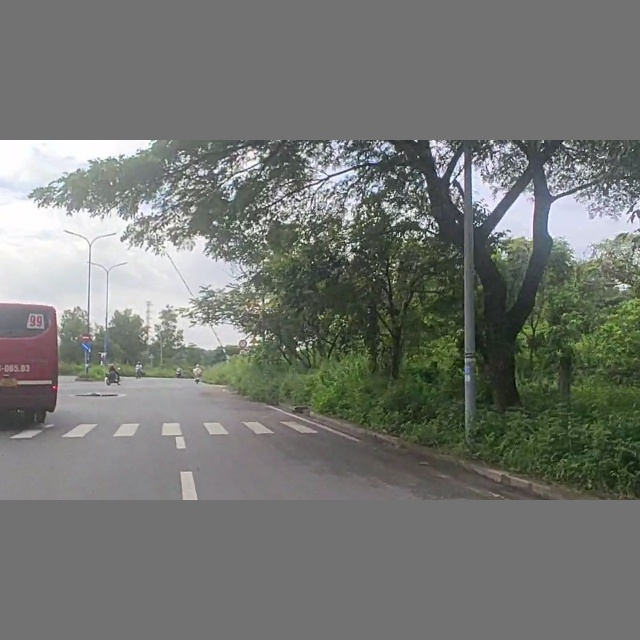P.102: (81, 333, 92, 342)
R.302a: (81, 342, 91, 352)
